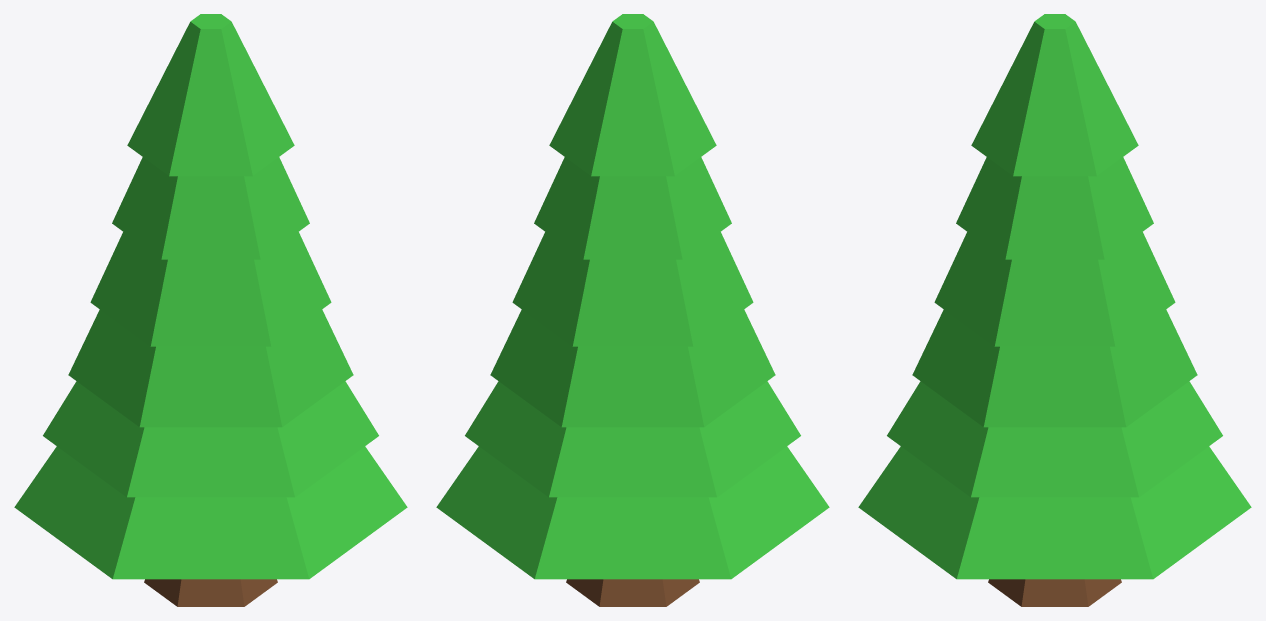
The model's file is treeone.dae.
3 renders of one model, left to right at view 1: azimuth 30°, elevation 25°; view 2: azimuth 150°, elevation 25°; view 3: azimuth 270°, elevation 25°, orthographic.
Parts seen in each view (by area): view 1: Cylinder; view 2: Cylinder; view 3: Cylinder.
Part boxes in pixels (x1=…): Cylinder: x1=14, y1=14, x2=407, y2=606; Cylinder: x1=436, y1=14, x2=829, y2=606; Cylinder: x1=858, y1=14, x2=1251, y2=606.
Size of the model in its own units: 2.6 by 3 by 4.72.
